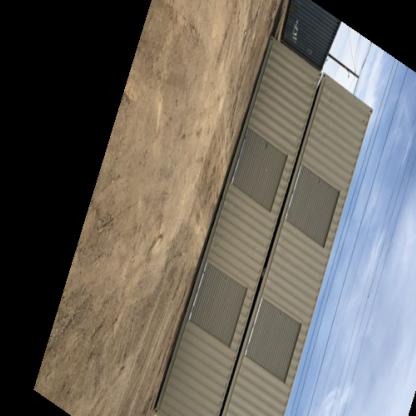Damage: (210, 228, 238, 255), (262, 139, 274, 155)
